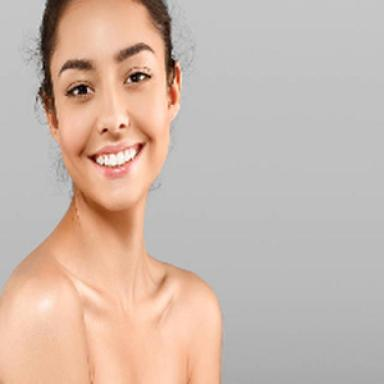normal skin: (0, 0, 221, 384)
